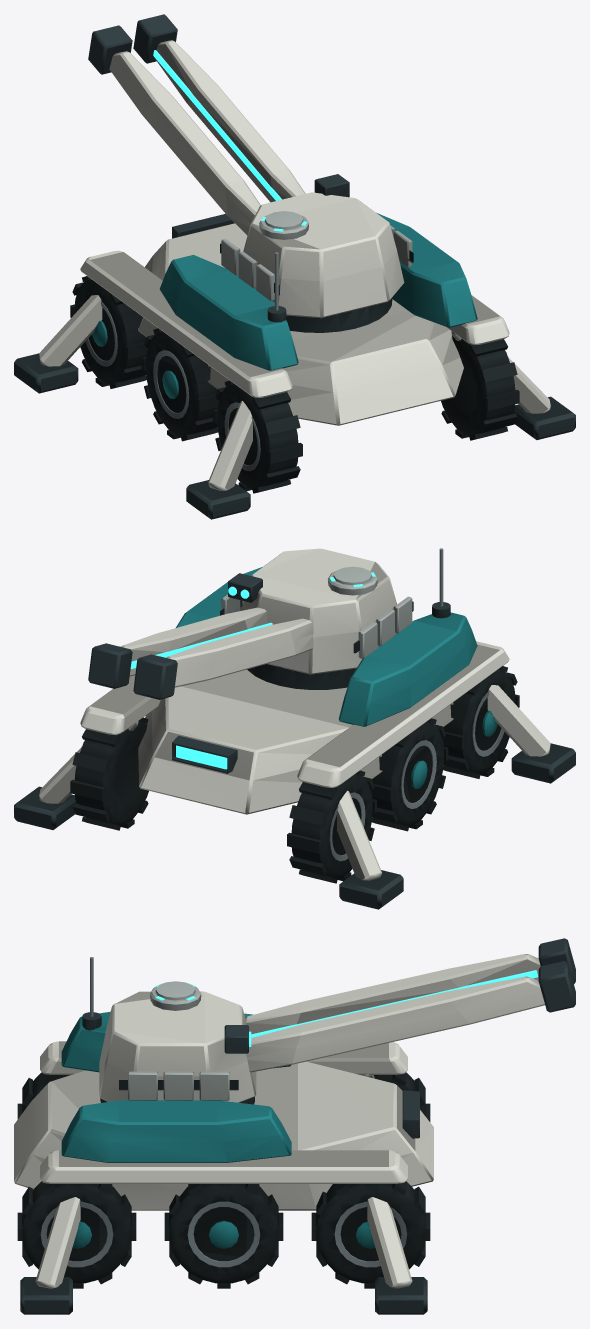
The model's file is PrismArtillery.glb.
3 views of the same model, one above another, from view 1: azimuth 30°, elevation 25°; view 2: azimuth 150°, elevation 25°; view 3: azimuth 270°, elevation 25° (orthographic). The views are drawn at different scales.
Visible parts, largest first — view 1: export_PrismArtillery_Fender, export_PrismArtillery_AcceleratorHousing, export_PrismArtillery_AcceleratorRail, export_PrismArtillery_Wheel_-1_1_Tire, export_PrismArtillery_Wheel_-1_0_Tire, export_PrismArtillery_Wheel_1_0_Tire, export_PrismArtillery_Wheel_-1_2_Tire, export_PrismArtillery_Stabilizer, export_PrismArtillery_Stabilizer.001, export_PrismArtillery_Stabilizer.002; view 2: export_PrismArtillery_Fender, export_PrismArtillery_AcceleratorHousing, export_PrismArtillery_AcceleratorRail, export_PrismArtillery_Wheel_1_2_Tire, export_PrismArtillery_Wheel_-1_1_Tire, export_PrismArtillery_Wheel_-1_2_Tire, export_PrismArtillery_Wheel_-1_0_Tire, export_PrismArtillery_Stabilizer.001, export_PrismArtillery_Stabilizer, export_PrismArtillery_Stabilizer.003; view 3: export_PrismArtillery_Fender, export_PrismArtillery_AcceleratorRail, export_PrismArtillery_AcceleratorHousing, export_PrismArtillery_Wheel_1_1_Tire, export_PrismArtillery_Wheel_1_2_Tire, export_PrismArtillery_Wheel_1_0_Tire, export_PrismArtillery_Stabilizer.002, export_PrismArtillery_Stabilizer.003, export_PrismArtillery_Wheel_-1_2_Tire, export_PrismArtillery_Wheel_-1_0_Tire.
Boxes of the visible parts, x1=… form: export_PrismArtillery_Fender: x1=80, y1=213, x2=509, y2=425; export_PrismArtillery_AcceleratorHousing: x1=220, y1=174, x2=413, y2=318; export_PrismArtillery_AcceleratorRail: x1=88, y1=14, x2=305, y2=235; export_PrismArtillery_Wheel_-1_1_Tire: x1=141, y1=328, x2=218, y2=441; export_PrismArtillery_Wheel_-1_0_Tire: x1=213, y1=380, x2=302, y2=493; export_PrismArtillery_Wheel_1_0_Tire: x1=441, y1=336, x2=519, y2=440; export_PrismArtillery_Wheel_-1_2_Tire: x1=70, y1=276, x2=147, y2=388; export_PrismArtillery_Stabilizer: x1=186, y1=400, x2=252, y2=519; export_PrismArtillery_Stabilizer.001: x1=14, y1=295, x2=102, y2=393; export_PrismArtillery_Stabilizer.002: x1=451, y1=331, x2=575, y2=439; export_PrismArtillery_Fender: x1=80, y1=548, x2=509, y2=814; export_PrismArtillery_AcceleratorHousing: x1=220, y1=548, x2=413, y2=674; export_PrismArtillery_AcceleratorRail: x1=88, y1=607, x2=313, y2=699; export_PrismArtillery_Wheel_1_2_Tire: x1=70, y1=717, x2=148, y2=830; export_PrismArtillery_Wheel_-1_1_Tire: x1=371, y1=718, x2=448, y2=831; export_PrismArtillery_Wheel_-1_2_Tire: x1=287, y1=770, x2=376, y2=883; export_PrismArtillery_Wheel_-1_0_Tire: x1=442, y1=666, x2=519, y2=778; export_PrismArtillery_Stabilizer.001: x1=337, y1=790, x2=403, y2=909; export_PrismArtillery_Stabilizer: x1=487, y1=685, x2=575, y2=783; export_PrismArtillery_Stabilizer.003: x1=14, y1=721, x2=138, y2=829; export_PrismArtillery_Fender: x1=14, y1=957, x2=433, y2=1210; export_PrismArtillery_AcceleratorRail: x1=245, y1=938, x2=575, y2=1072; export_PrismArtillery_AcceleratorHousing: x1=99, y1=981, x2=256, y2=1102; export_PrismArtillery_Wheel_1_1_Tire: x1=164, y1=1184, x2=283, y2=1288; export_PrismArtillery_Wheel_1_2_Tire: x1=311, y1=1181, x2=430, y2=1288; export_PrismArtillery_Wheel_1_0_Tire: x1=17, y1=1181, x2=136, y2=1288; export_PrismArtillery_Stabilizer.002: x1=20, y1=1197, x2=80, y2=1314; export_PrismArtillery_Stabilizer.003: x1=367, y1=1197, x2=427, y2=1314; export_PrismArtillery_Wheel_-1_2_Tire: x1=374, y1=1072, x2=430, y2=1121; export_PrismArtillery_Wheel_-1_0_Tire: x1=17, y1=1072, x2=69, y2=1119.
Bounding box in the file's own units: 4.07 × 2.78 × 5.23.
